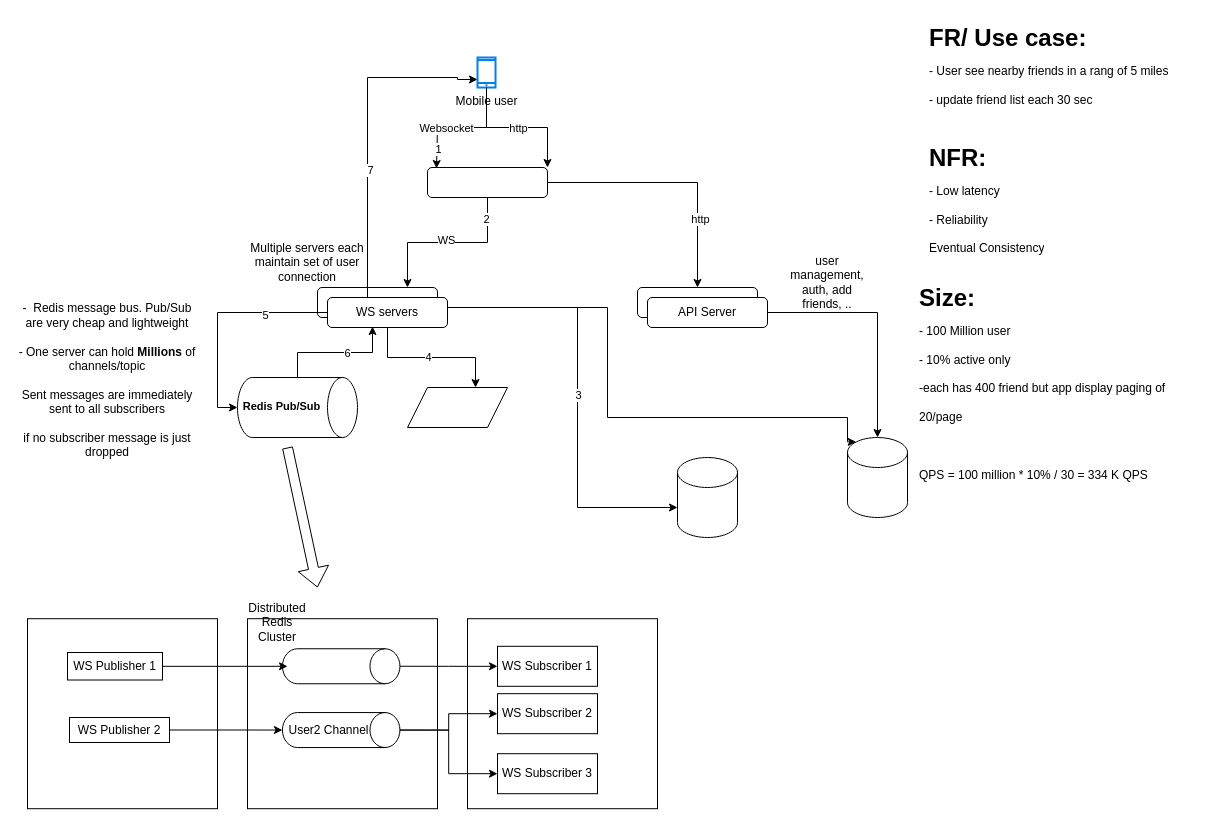
This 1214x826 diagram has some shape labels left out. The box of each missing label's shape, as (x1, y1, x2, y2) in pixels:
LB: (426, 166, 548, 198)
Location Cache: (406, 386, 508, 428)
Location History DB: (676, 456, 738, 538)
User DB SQL/Non-SQL: (846, 436, 908, 518)
User1 Channel: (282, 648, 400, 684)
